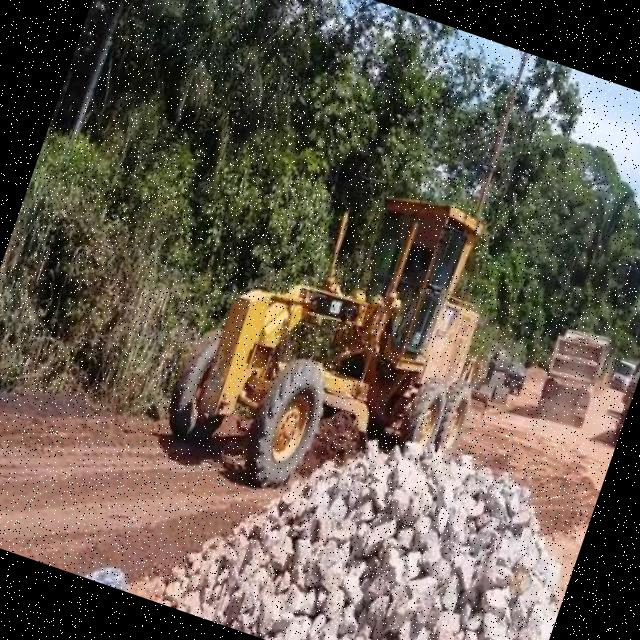Dump Truck: (530, 320, 613, 432)
Grader: (150, 135, 532, 548)
